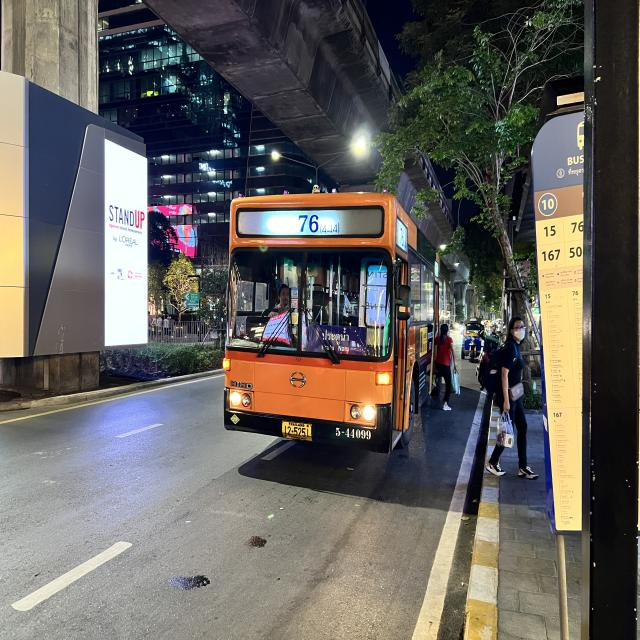BMTA-bus: (219, 182, 453, 456)
Bus-Line-Number: (294, 210, 342, 236)
Destination-Sign-Normal: (308, 323, 367, 355)
